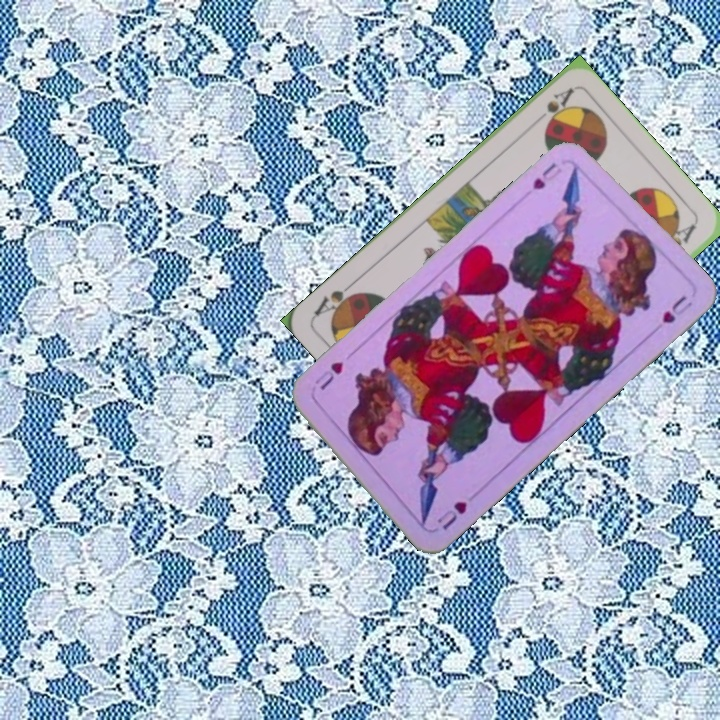HU: (432, 497, 470, 533), (528, 158, 565, 193)
SA: (528, 84, 577, 131)
